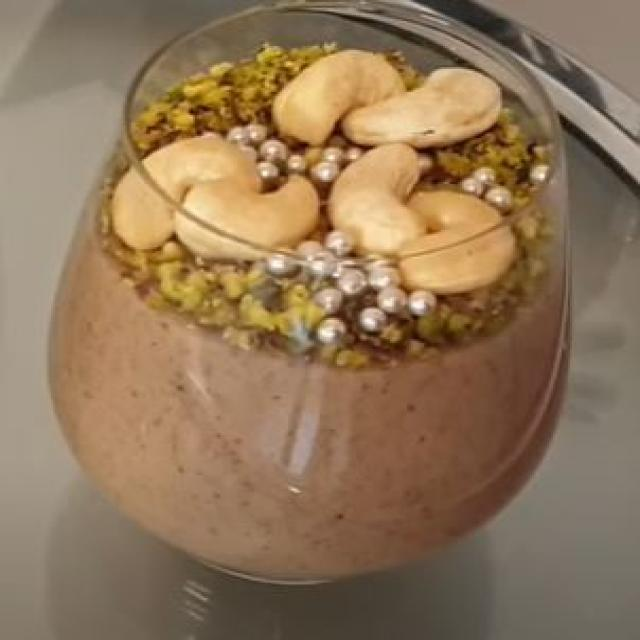asida-zkoukou: (60, 26, 600, 591)
